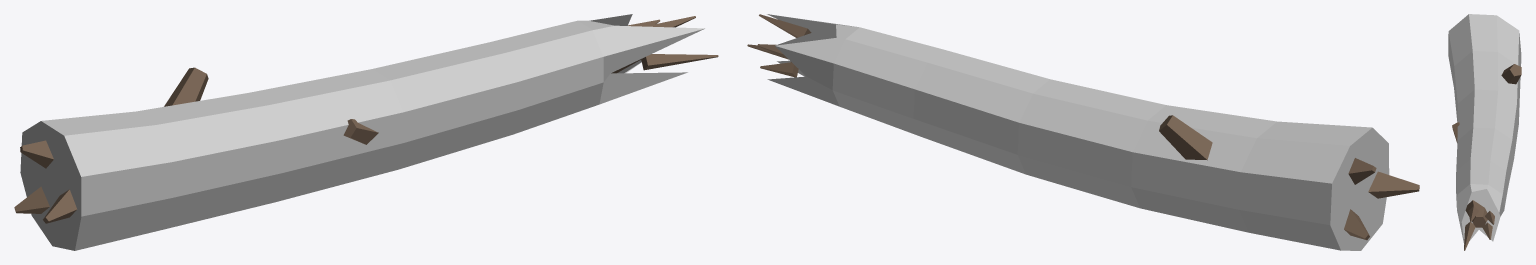
Rendered from dead_log.glb.
The picture shows the model from 3 angles, left to right: view 1: azimuth 30°, elevation 25°; view 2: azimuth 150°, elevation 25°; view 3: azimuth 270°, elevation 25°; orthographic projection. The views are drawn at different scales.
Visible parts, largest first — view 1: dead_log; view 2: dead_log; view 3: dead_log.
Part boxes in pixels (<box>): dead_log: <box>14,14,718,250</box>; dead_log: <box>747,14,1419,250</box>; dead_log: <box>1448,14,1521,250</box>.
Size of the model in its own units: 3.95 by 0.6823 by 0.6118.
